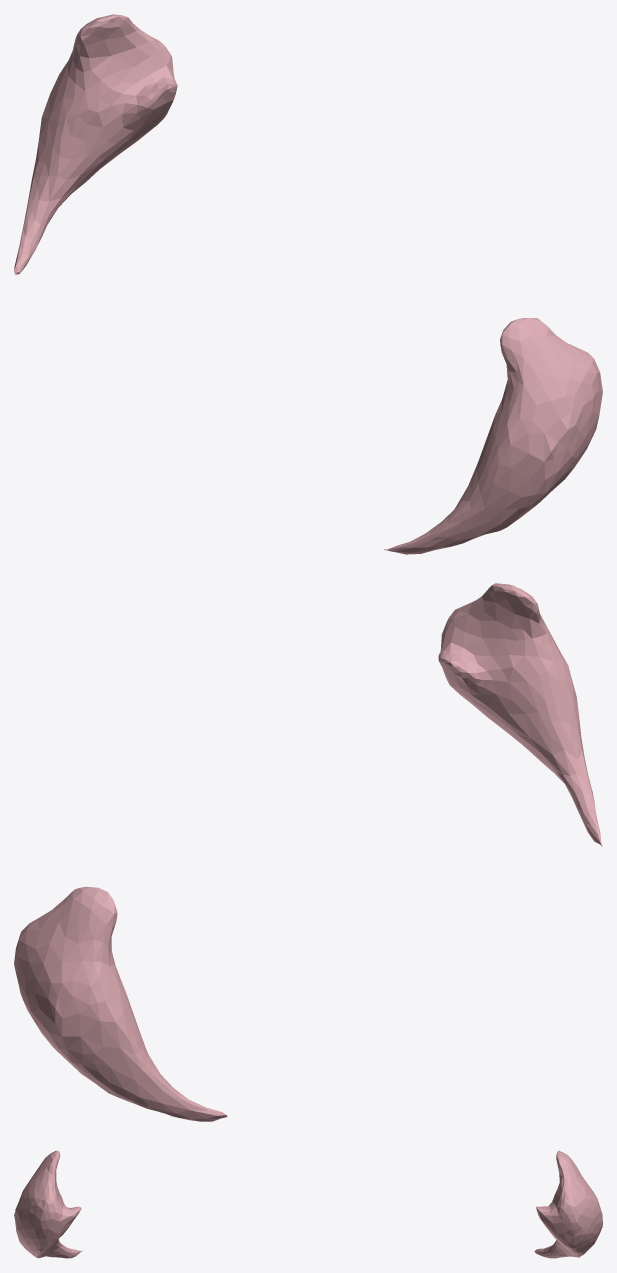
3 renders of one model, top to bottom at view 1: azimuth 30°, elevation 25°; view 2: azimuth 150°, elevation 25°; view 3: azimuth 270°, elevation 25°, orthographic. The views are drawn at different scales.
Parts seen in each view (by area): view 1: 1014.obj; view 2: 1014.obj; view 3: 1014.obj.
Part boxes in pixels (x1=…): 1014.obj: x1=14, y1=14, x2=602, y2=554; 1014.obj: x1=14, y1=583, x2=602, y2=1121; 1014.obj: x1=14, y1=1150, x2=602, y2=1258.
Bounding box in the file's own units: 1297 × 1475 × 5855.
